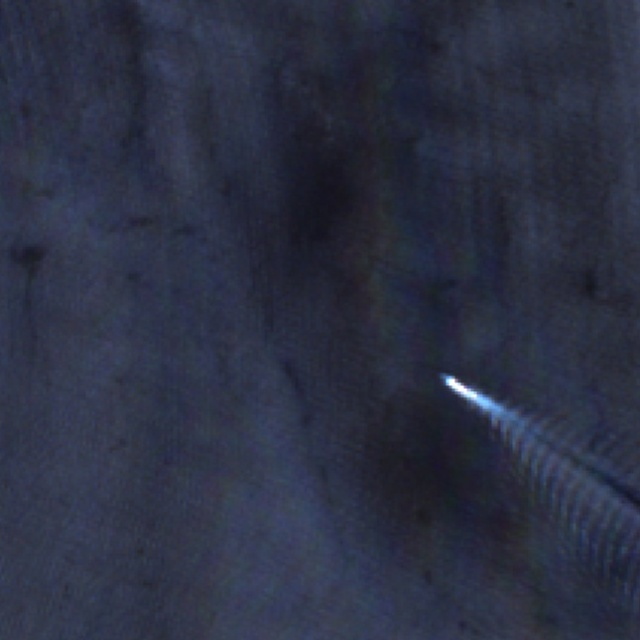wake: (403, 331, 628, 522)
